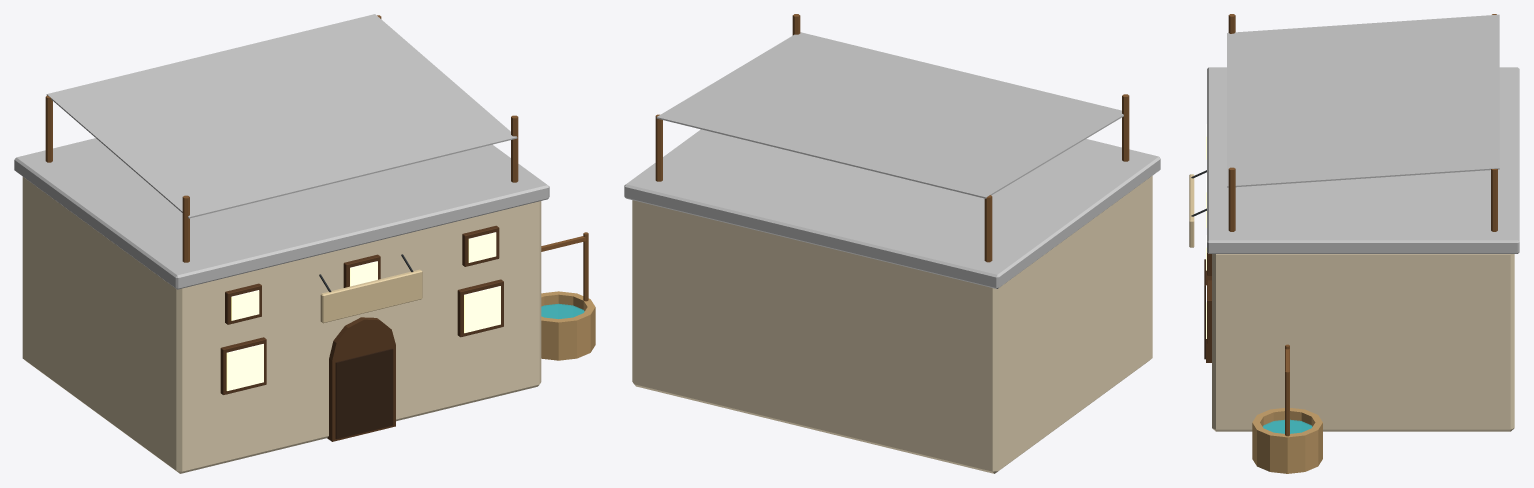
File: map3_inn_oasis_v01.glb
The picture shows the model from 3 angles, left to right: view 1: azimuth 30°, elevation 25°; view 2: azimuth 150°, elevation 25°; view 3: azimuth 270°, elevation 25°; orthographic projection. The views are drawn at different scales.
Parts seen in each view (by area): view 1: inn_oasis; view 2: inn_oasis; view 3: inn_oasis.
Boxes of the visible parts, x1,y1,x2,y2 form: inn_oasis: (14, 14, 595, 473); inn_oasis: (624, 14, 1160, 473); inn_oasis: (1189, 14, 1519, 473).
Size of the model in its own units: 10 by 5.61 by 6.55.
